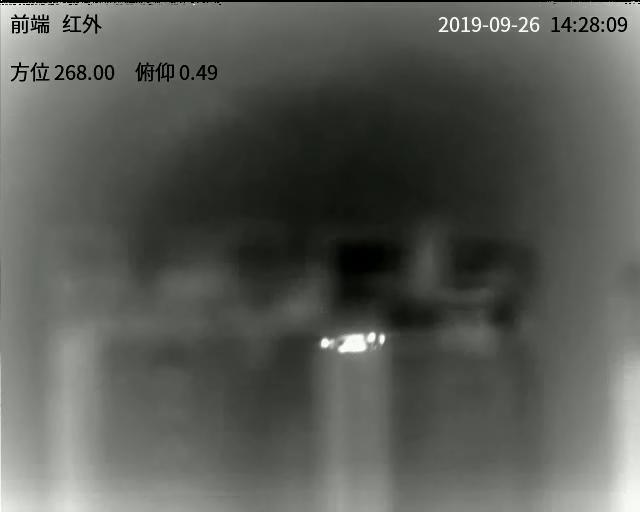uav: (315, 324, 389, 358)
